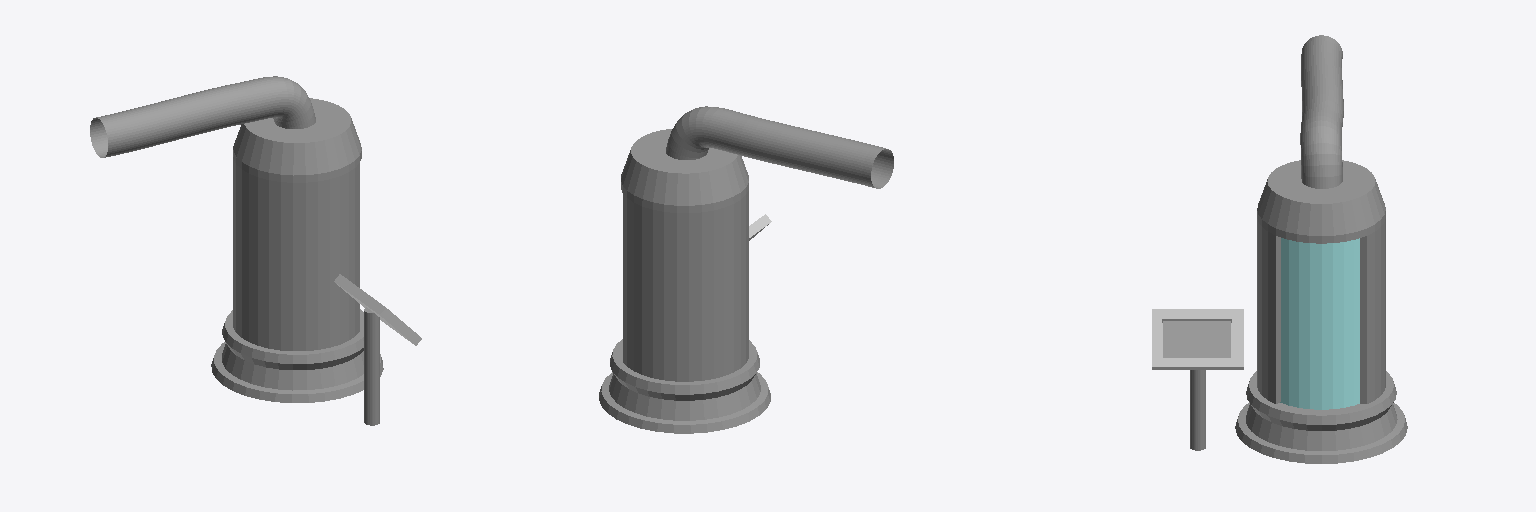
The model's file is cryochamber.obj.
3 renders of one model, left to right at view 1: azimuth 30°, elevation 25°; view 2: azimuth 150°, elevation 25°; view 3: azimuth 270°, elevation 25°, orthographic.
Parts seen in each view (by area): view 1: Cylinder.003, BezierCurve.001, Cylinder.002, Cylinder.001_Cylinder.005, Cube_Cube.001; view 2: Cylinder.003, BezierCurve.001, Cylinder.002; view 3: Cylinder.003, Cylinder, Cylinder.002, BezierCurve.001, Cube_Cube.001, Cube.002_Cube.003, Cylinder.001_Cylinder.005.
Boxes of the visible parts, <box> form: Cylinder.003: <box>233,98,361,350</box>; BezierCurve.001: <box>90,76,315,157</box>; Cylinder.002: <box>211,309,383,402</box>; Cylinder.001_Cylinder.005: <box>364,307,379,425</box>; Cube_Cube.001: <box>334,274,421,345</box>; Cylinder.003: <box>621,129,748,381</box>; BezierCurve.001: <box>666,106,893,188</box>; Cylinder.002: <box>599,339,770,433</box>; Cylinder.003: <box>1257,160,1385,403</box>; Cylinder: <box>1280,238,1359,409</box>; Cylinder.002: <box>1235,371,1407,463</box>; BezierCurve.001: <box>1300,35,1343,188</box>; Cube_Cube.001: <box>1152,309,1243,369</box>; Cube.002_Cube.003: <box>1163,321,1230,357</box>; Cylinder.001_Cylinder.005: <box>1190,370,1205,450</box>.
Bounding box in the file's own units: 5.38 × 5.8 × 4.35.